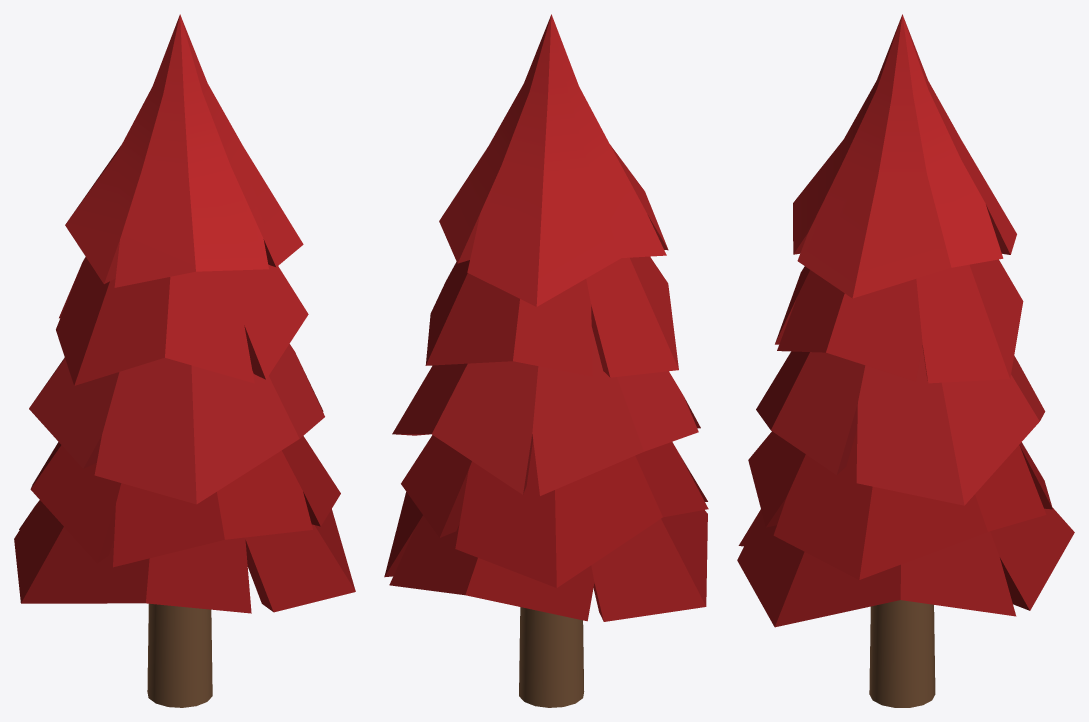
Rendered from Spruce_Red_3.fbx.
3 renders of one model, left to right at view 1: azimuth 30°, elevation 25°; view 2: azimuth 150°, elevation 25°; view 3: azimuth 270°, elevation 25°, orthographic.
Parts seen in each view (by area): view 1: Cylinder.465, Cylinder.464, Cylinder.463, Cylinder.461, Cylinder.462, Cylinder.460; view 2: Cylinder.465, Cylinder.464, Cylinder.462, Cylinder.463, Cylinder.461, Cylinder.460; view 3: Cylinder.465, Cylinder.464, Cylinder.462, Cylinder.463, Cylinder.461, Cylinder.460.
Part boxes in pixels (bbox=[...]): Cylinder.465: bbox=[65, 14, 303, 287]; Cylinder.464: bbox=[29, 344, 324, 504]; Cylinder.463: bbox=[56, 257, 308, 385]; Cylinder.461: bbox=[14, 500, 355, 613]; Cylinder.462: bbox=[30, 436, 340, 567]; Cylinder.460: bbox=[147, 603, 212, 707]; Cylinder.465: bbox=[439, 14, 668, 306]; Cylinder.464: bbox=[392, 327, 700, 495]; Cylinder.462: bbox=[401, 435, 708, 587]; Cylinder.463: bbox=[425, 256, 678, 377]; Cylinder.461: bbox=[384, 492, 707, 621]; Cylinder.460: bbox=[519, 607, 584, 707]; Cylinder.465: bbox=[793, 14, 1016, 298]; Cylinder.464: bbox=[756, 346, 1045, 505]; Cylinder.462: bbox=[748, 429, 1052, 579]; Cylinder.463: bbox=[775, 259, 1023, 383]; Cylinder.461: bbox=[737, 507, 1074, 627]; Cylinder.460: bbox=[869, 600, 935, 707].
Bounding box in the file's own units: 265 × 567 × 255.
